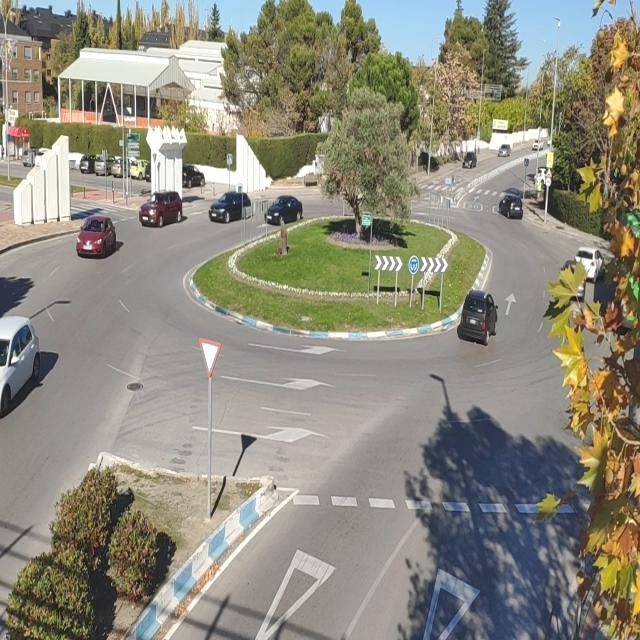Car: (1, 316, 40, 418), (458, 290, 498, 344), (76, 213, 116, 258), (138, 191, 183, 227), (208, 192, 251, 223), (573, 247, 605, 283), (265, 196, 303, 224), (498, 193, 523, 219), (182, 165, 205, 188), (462, 152, 477, 168), (498, 144, 511, 157), (532, 139, 544, 151)
